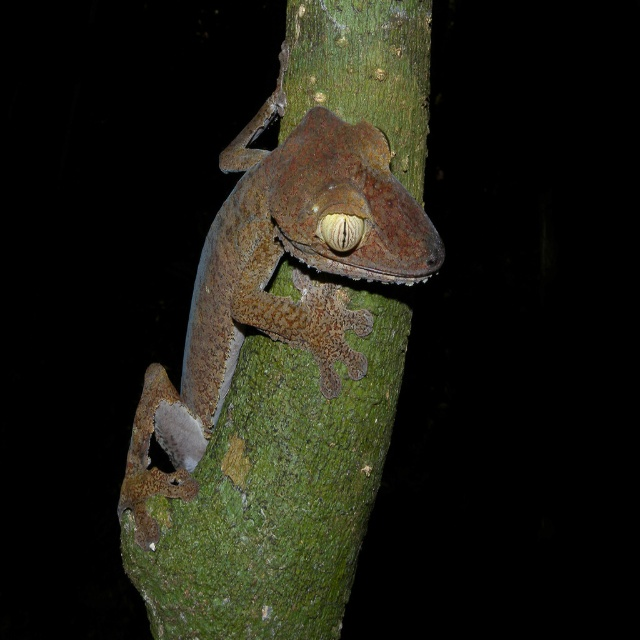Lizard: (117, 84, 441, 605)
